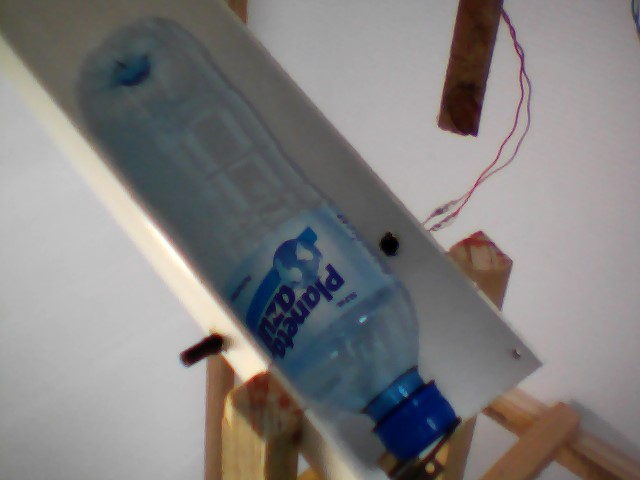plastico: (70, 13, 459, 464)
